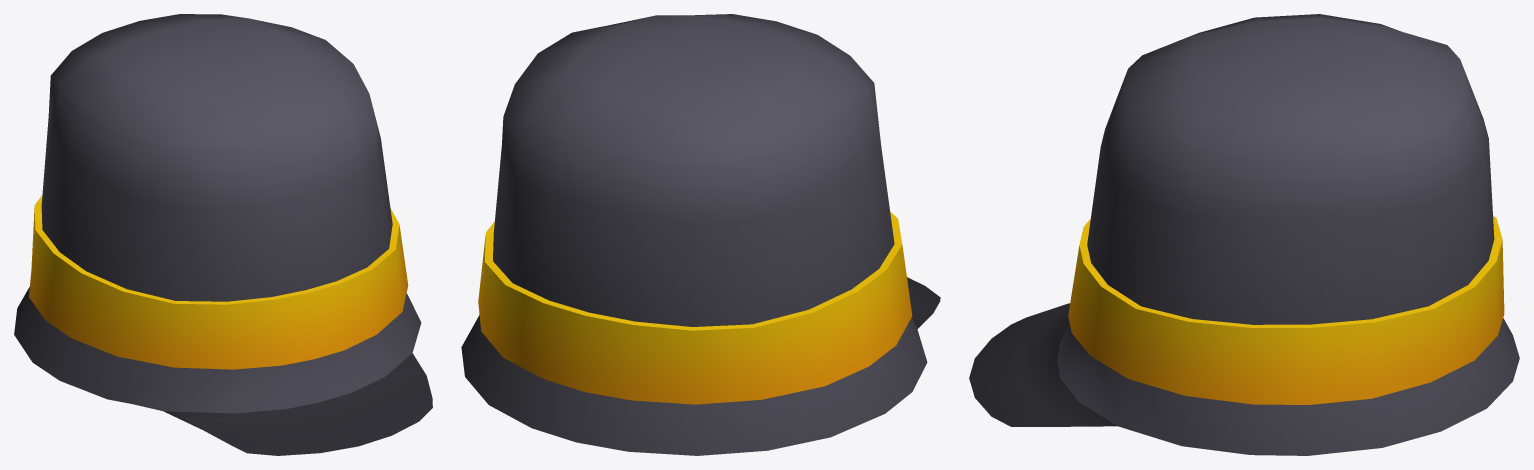
File: vinchester_Hat.fbx
The picture shows the model from 3 angles, left to right: view 1: azimuth 30°, elevation 25°; view 2: azimuth 150°, elevation 25°; view 3: azimuth 270°, elevation 25°; orthographic projection. The views are drawn at different scales.
Parts seen in each view (by area): view 1: Stickman_heads_sphere.004; view 2: Stickman_heads_sphere.004; view 3: Stickman_heads_sphere.004.
Boxes of the visible parts, left/top/right/bottom form: Stickman_heads_sphere.004: left=14, top=14, right=432, bottom=455; Stickman_heads_sphere.004: left=461, top=14, right=940, bottom=455; Stickman_heads_sphere.004: left=969, top=14, right=1519, bottom=455.
Size of the model in its own units: 0.629 by 0.4918 by 0.7554.
Materials: 1 (1 with a texture image).
